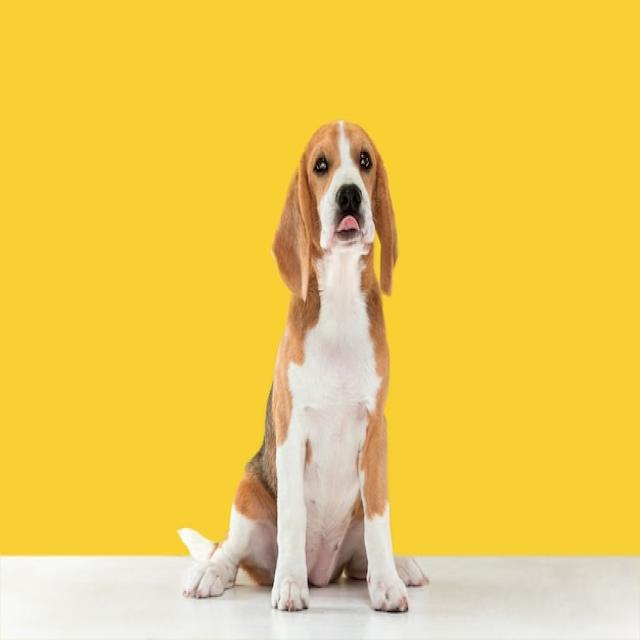Dog: (179, 119, 429, 612)
